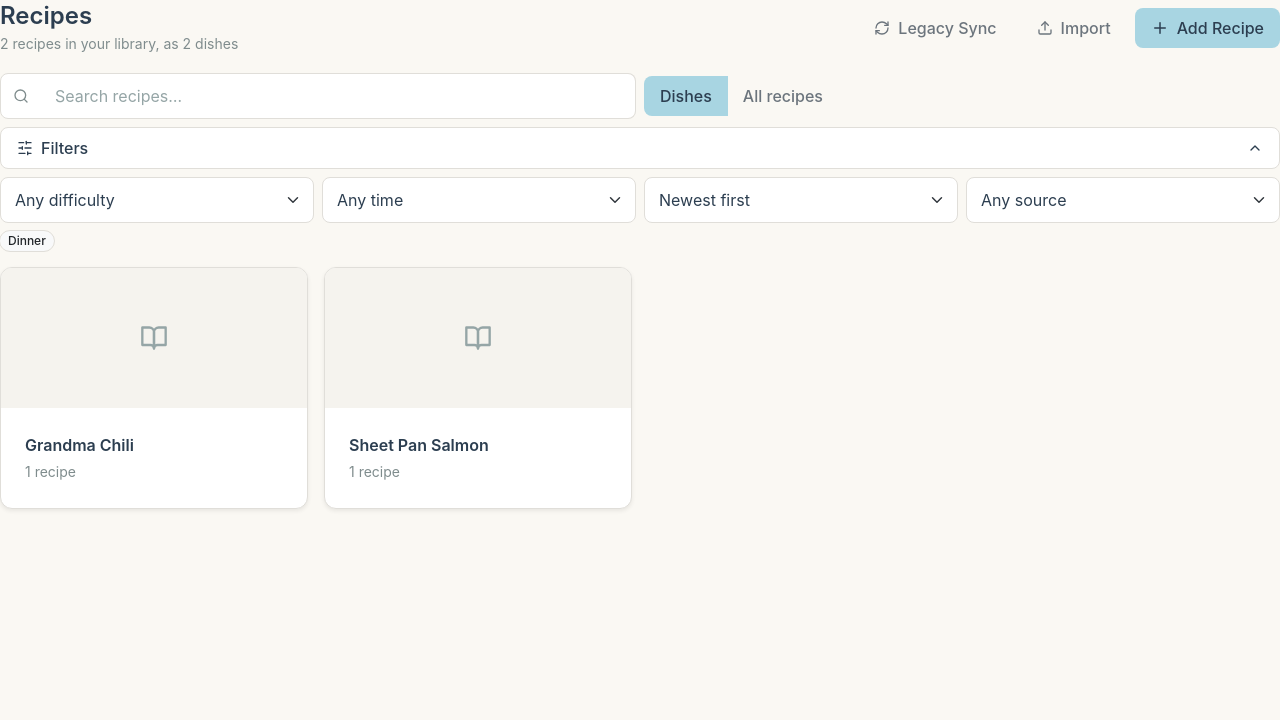
Test: Recipes page — legacy sync › opens the sync dashboard
The width and height of the screenshot is (1280, 720).
Step 1. Click the button "All recipes" → (783, 96), box [727,76,839,116]
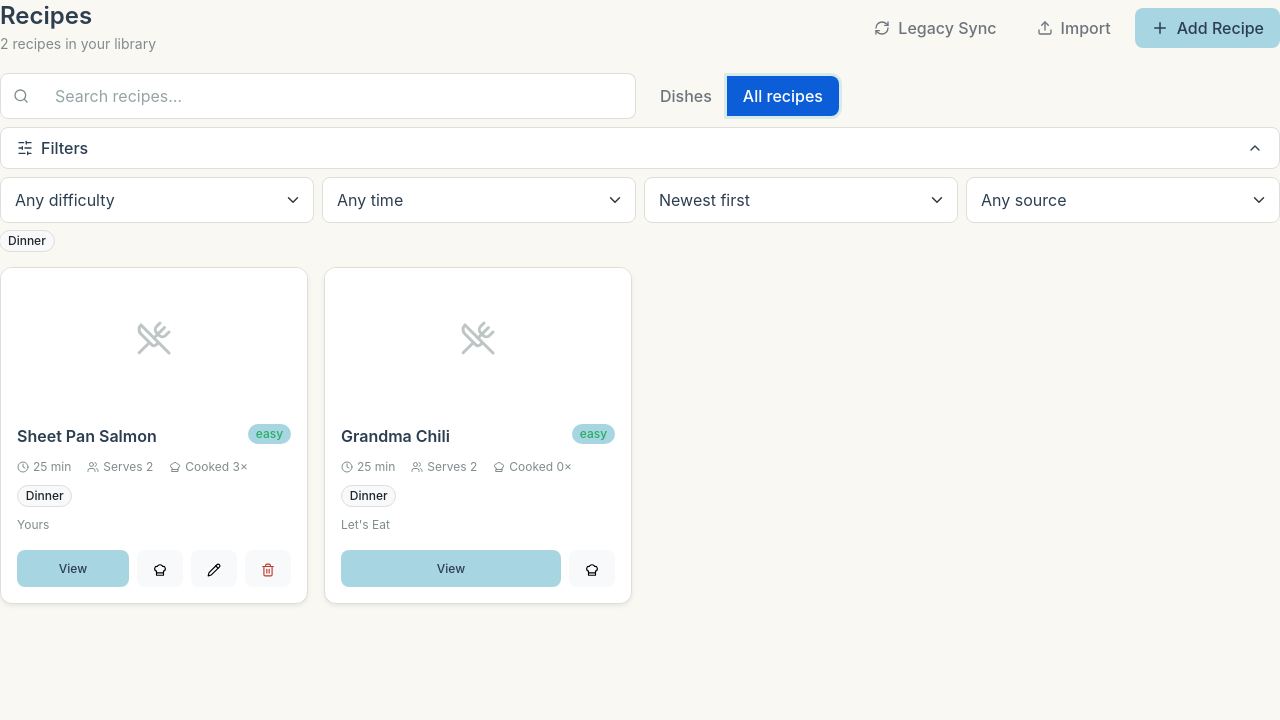
Step 2. Click the button "Legacy Sync" → (935, 28), box [858,8,1013,48]
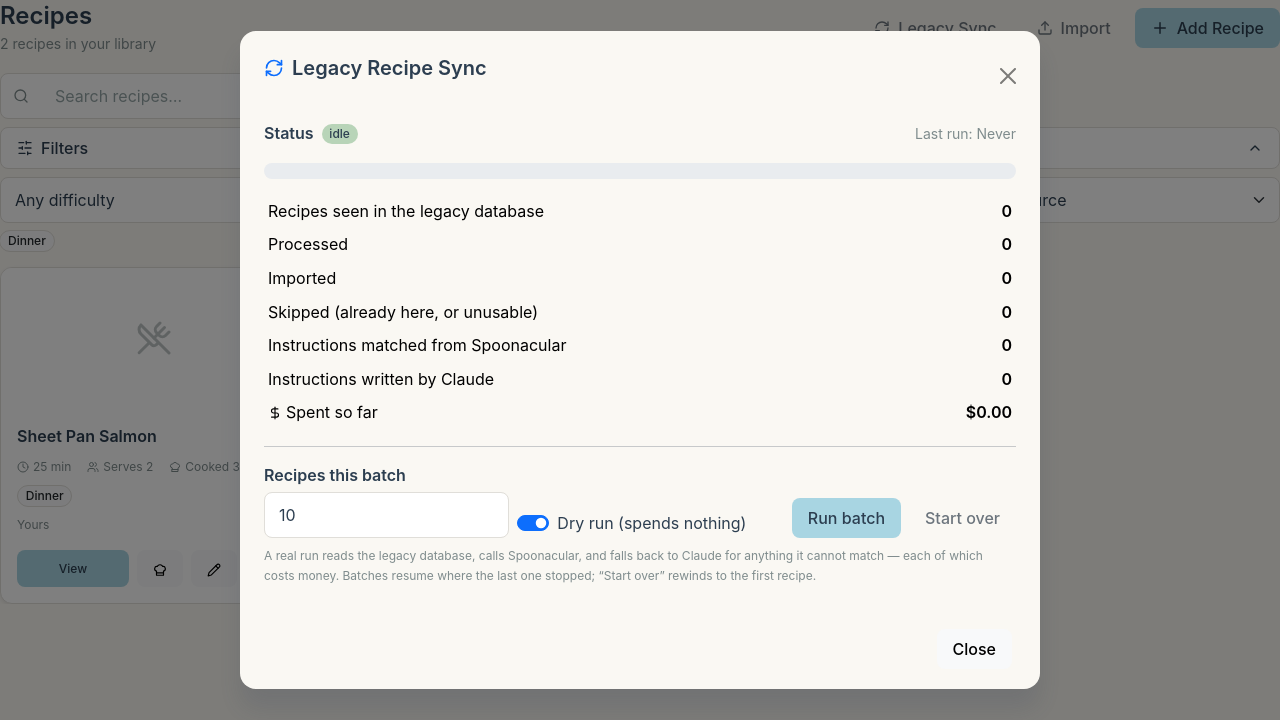
Result: the text "Legacy Recipe Sync" is shown at [264,55,487,81]
